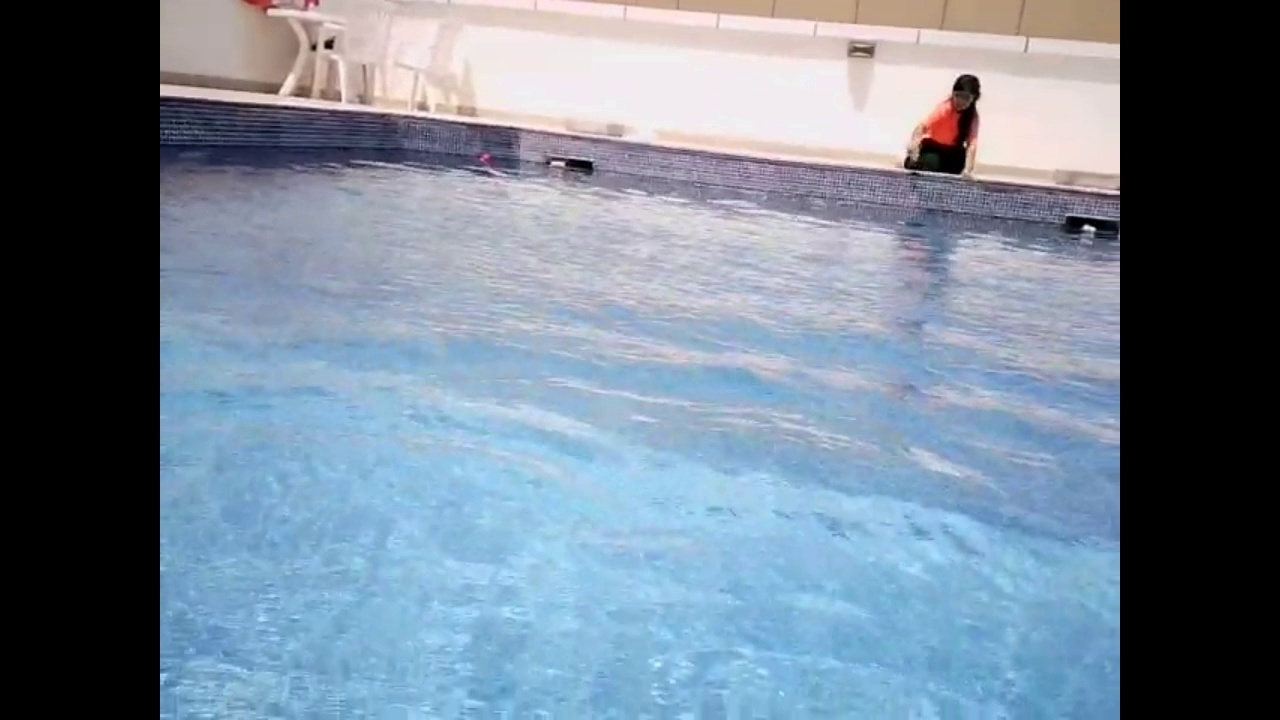debris: (1077, 221, 1100, 235), (546, 158, 570, 171), (477, 151, 496, 165)
